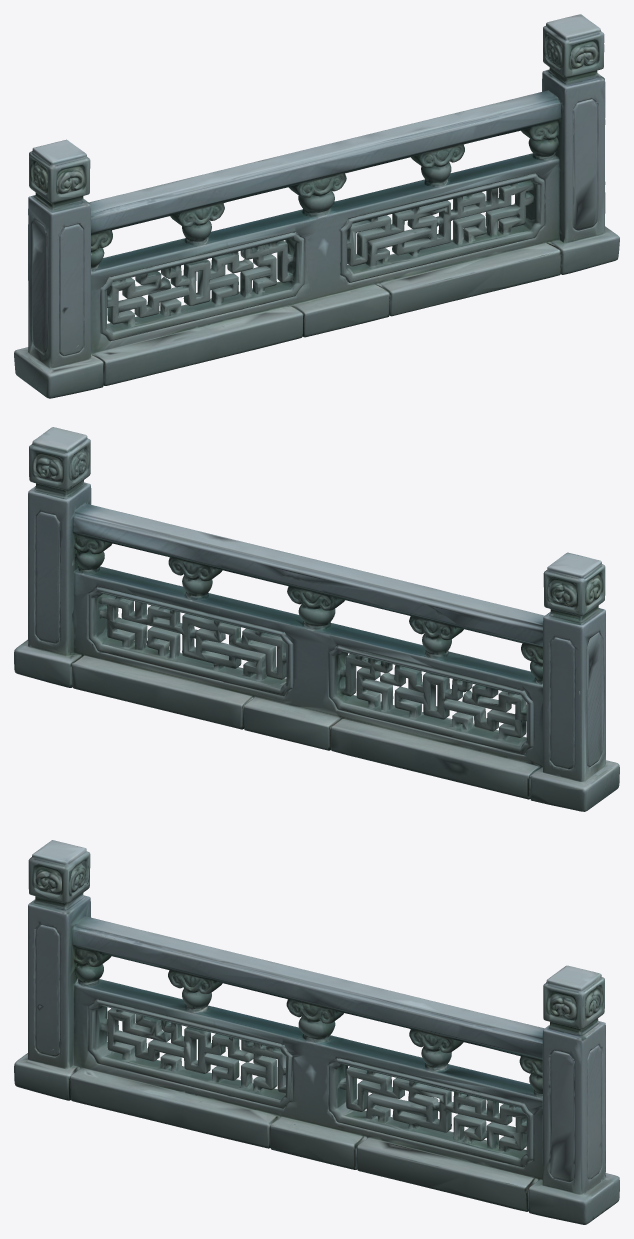
The model's file is stoneFence.glb.
3 views of the same model, one above another, from view 1: azimuth 30°, elevation 25°; view 2: azimuth 150°, elevation 25°; view 3: azimuth 330°, elevation 25° (orthographic).
Visible parts, largest first — view 1: node_0; view 2: node_0; view 3: node_0.
Boxes of the visible parts, x1=… form: node_0: x1=14, y1=14, x2=619, y2=398; node_0: x1=14, y1=427, x2=619, y2=811; node_0: x1=14, y1=840, x2=619, y2=1224.
Bounding box in the file's own units: 2 × 0.7733 × 0.2163.
1 material, 1 textured.
